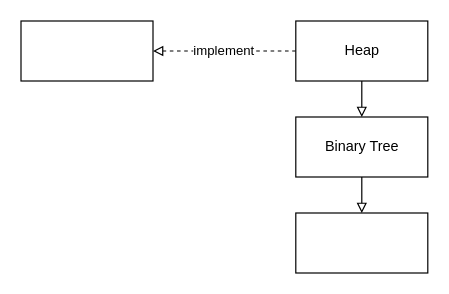
This 449x294 diagram has some shape labels left out. The shapes that lost their labels are listed below. From the top down, each one's centre as x and y in pixels, then its label:
At point 86,50: "«abstract» Priority Queue".
At point 361,242: "Tree".
